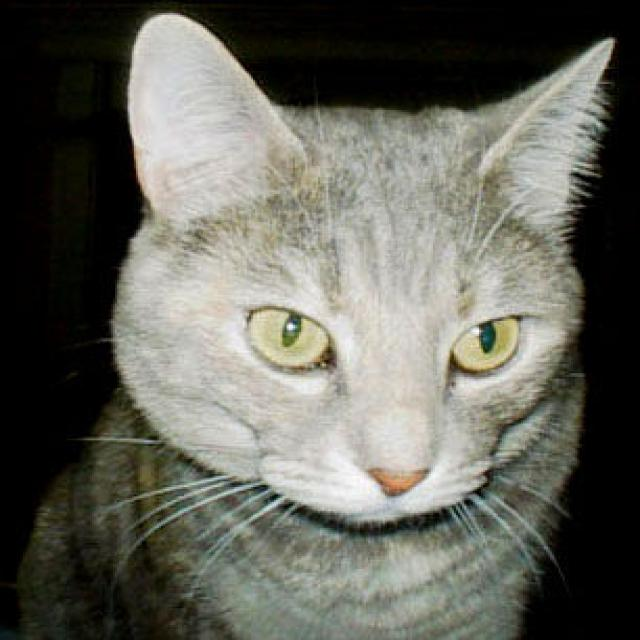cat: (14, 10, 618, 639)
